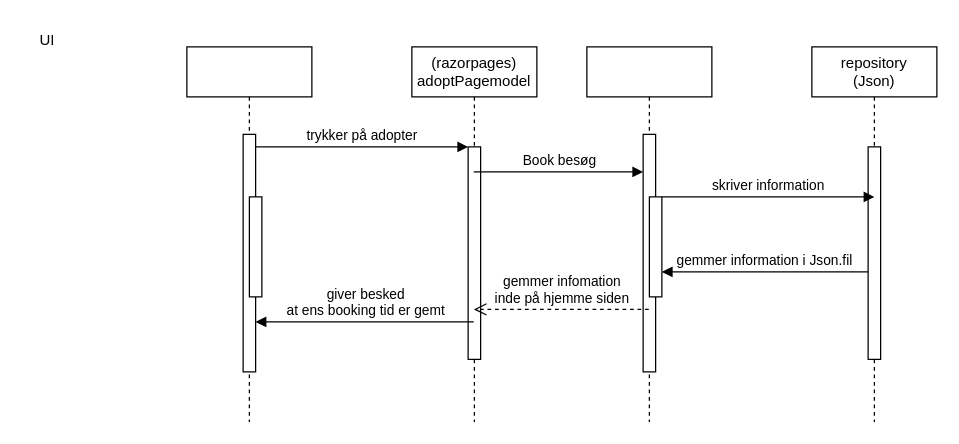
Image size: 959x444. Some labels were removed from this diagram. Each missing label, with the centre of its shape:
(razorpages) BookVisitModel: (x=649, y=234)
bruger: (x=249, y=234)
